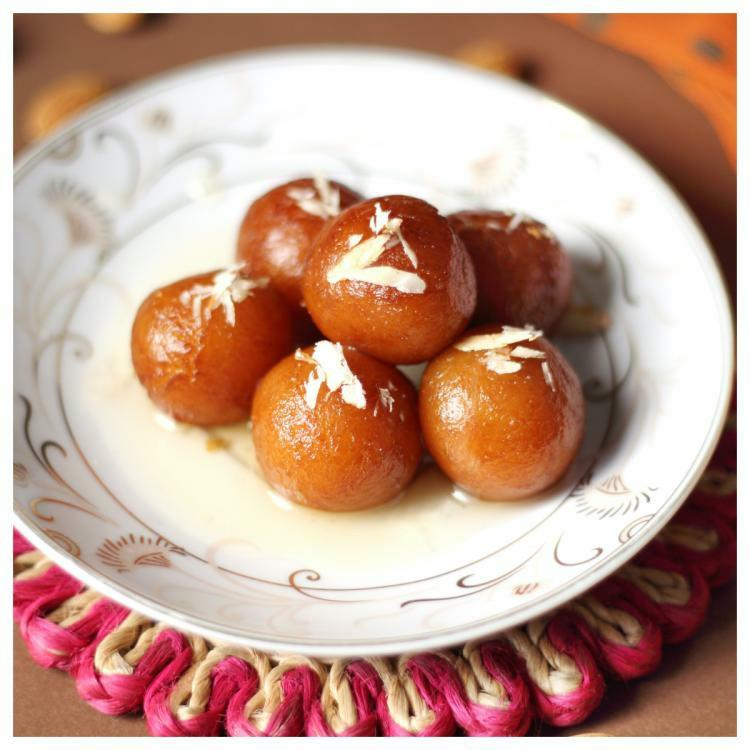GulabJamun: (306, 192, 481, 373), (419, 329, 588, 505), (254, 342, 424, 512), (132, 267, 297, 433), (437, 206, 575, 349), (238, 174, 376, 309)
